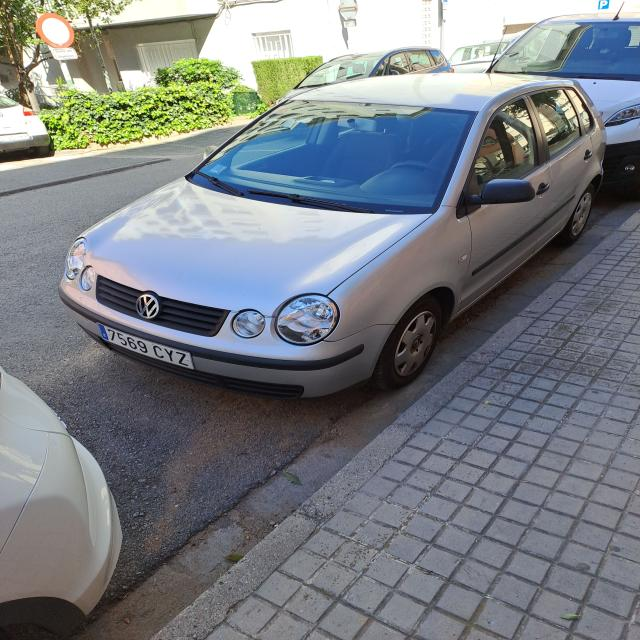license_plate-34Td: (100, 325, 194, 369)
